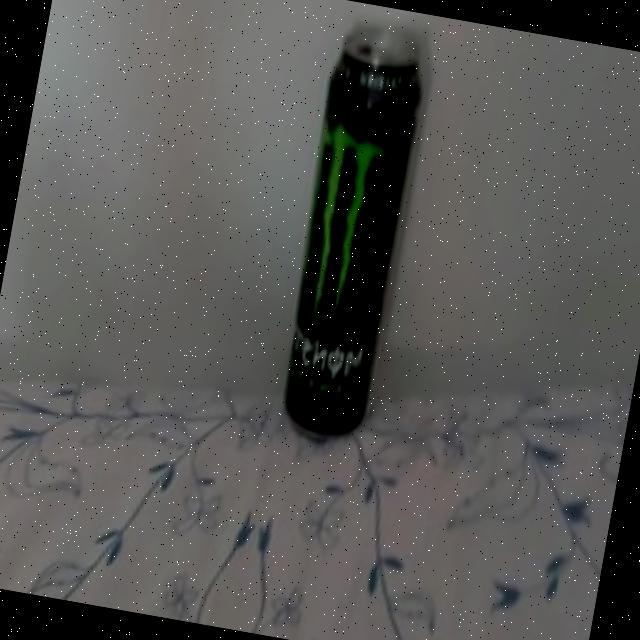Metal: (267, 26, 430, 449)
